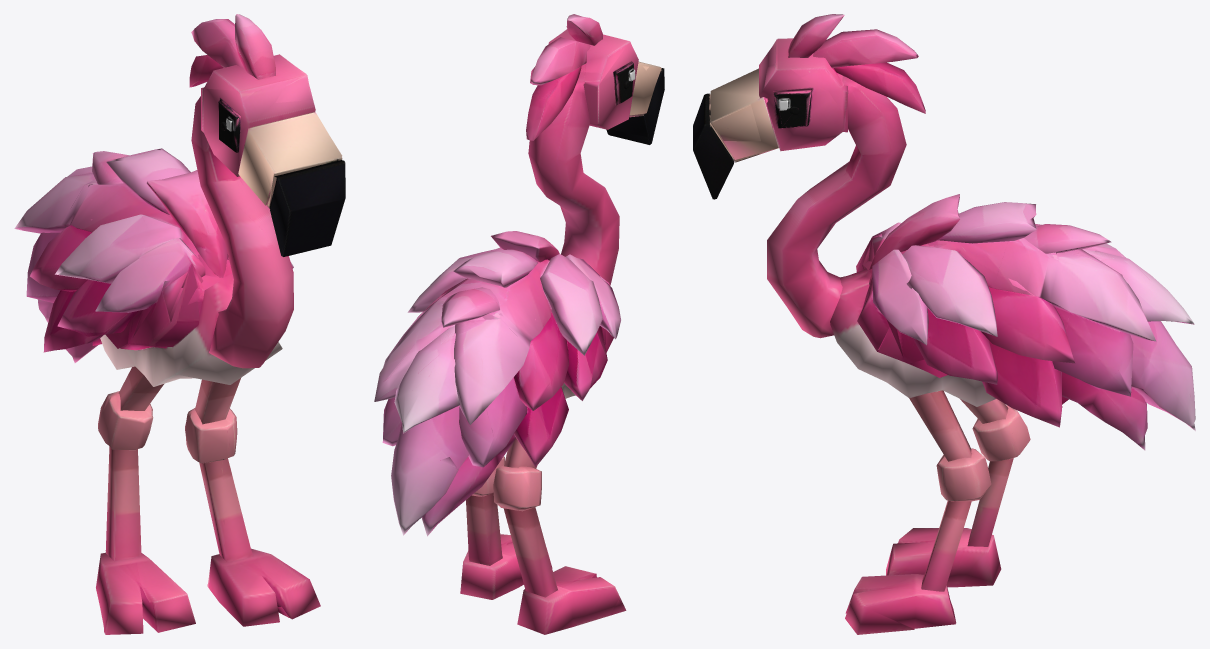
The model's file is creature_flamingo_forge.glb.
3 renders of one model, left to right at view 1: azimuth 30°, elevation 25°; view 2: azimuth 150°, elevation 25°; view 3: azimuth 270°, elevation 25°, orthographic. The views are drawn at different scales.
Size of the model in its own units: 0.3213 by 0.9521 by 0.7471.
1 material, 1 textured.
